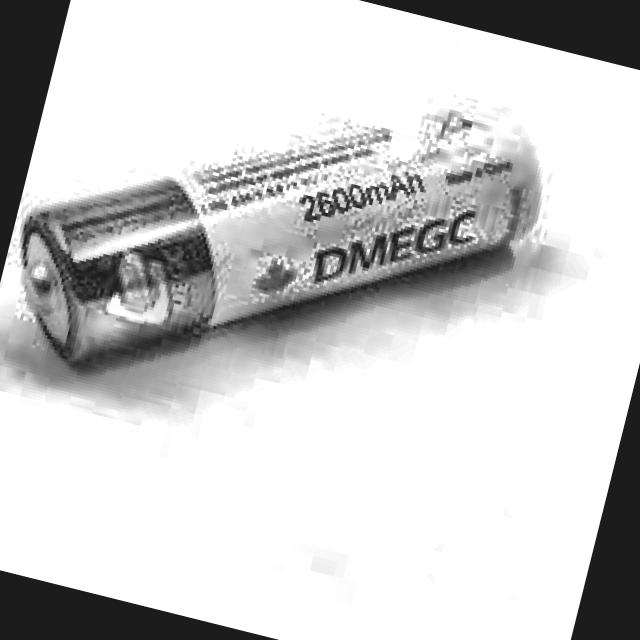Battery: (0, 4, 558, 458)
